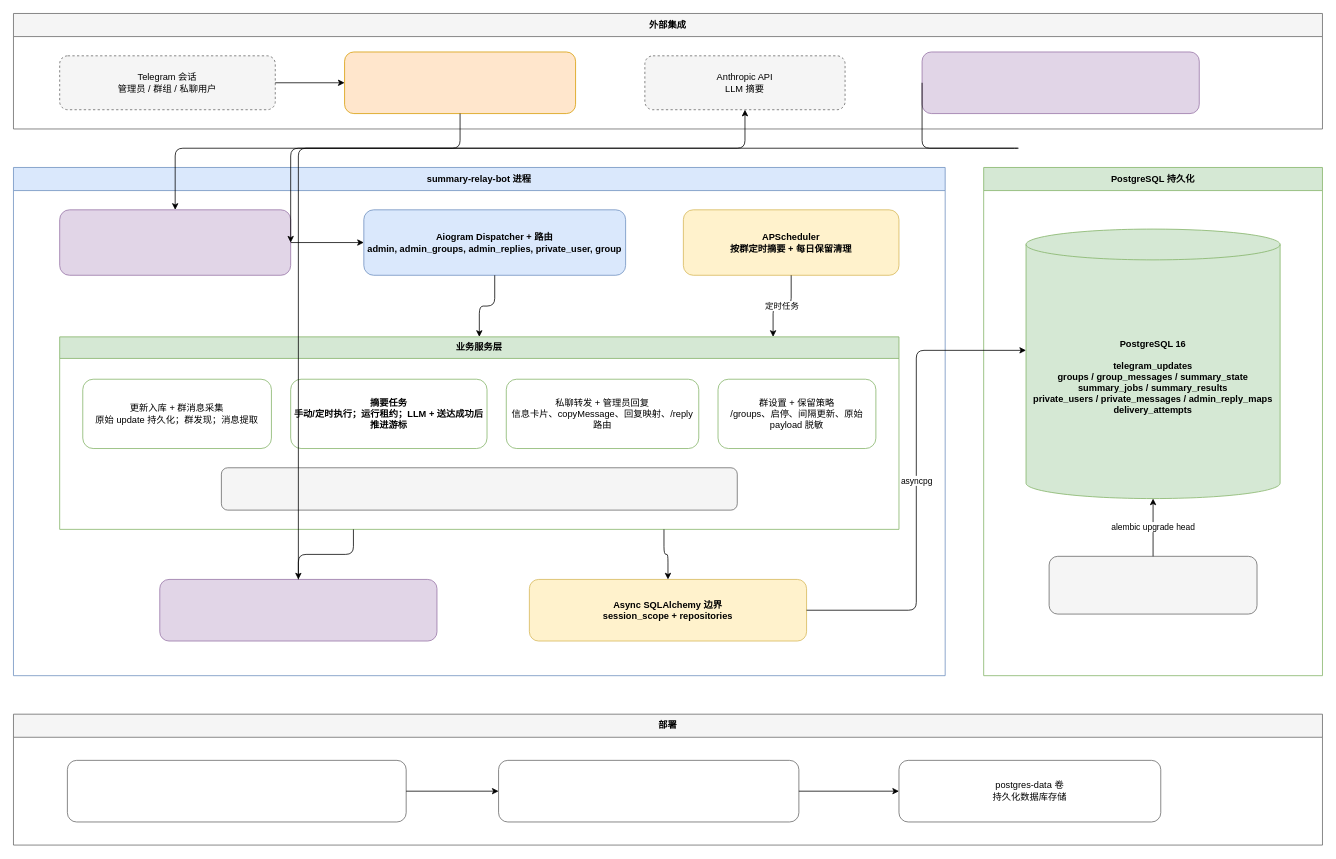
The diagram is 1336 pixels wide and 859 high, and some of its shapes have lost their labels. Here are the shapes that lost their labels. From the top down, the centre of each, then its label:
(460,82): Telegram Bot API 轮询、sendMessage、copyMessage
(1060,82): .env / 运行配置 BOT_TOKEN, OWNER_ID, DATABASE_URL, LLM_*
(175,242): main.py 启动装配 AppConfig, Bot, Dispatcher, Engine, Scheduler
(479,488): 共享辅助模块 message_extraction, summary_content, info_cards, Telegram 错误分类
(1152,585): 数据库迁移 Alembic 初始 schema
(298,610): PrivacyAwareSummaryClient 只发送 message_type + summary_content
(236,791): Docker 镜像 / 控制台入口 summary-relay-bot = summary_relay_bot.main:main
(648,791): docker-compose.yml bot 服务依赖健康的 postgres
